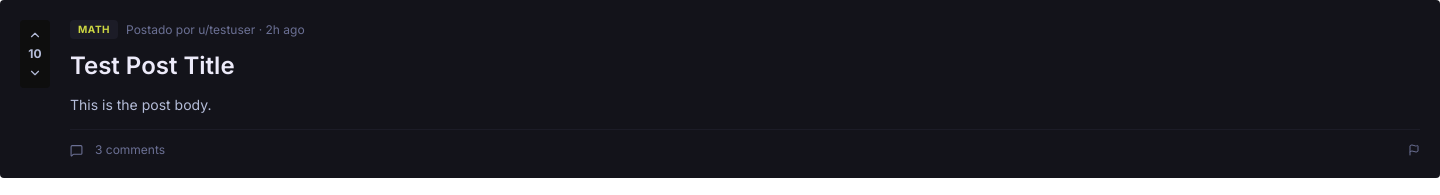
Scenario: PostDetail › cancels upvote if upvote is clicked again
What coordinates should you click on to do the following:
click the button named "upvote"
I would click on:
 (35, 35)
Its box is [24,24,46,46].
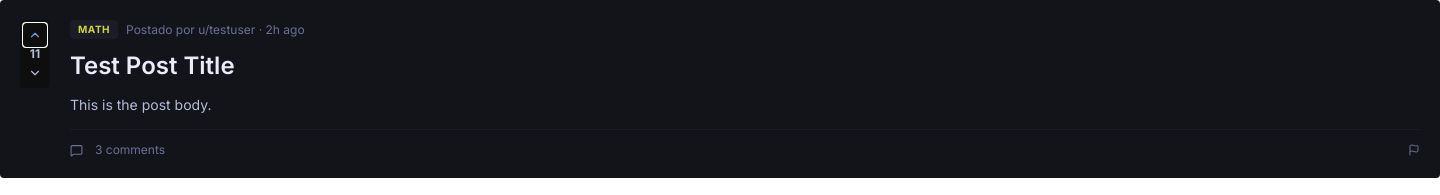
What coordinates should you click on to do the following:
click the button named "upvote"
I would click on:
 (35, 35)
Its box is [24,24,46,46].
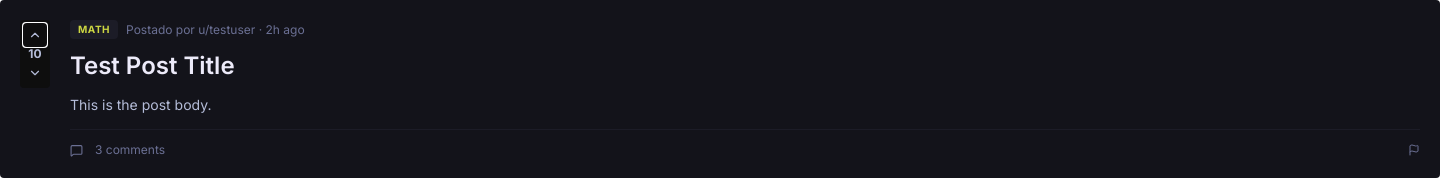
Check: the text "10" is shown, box [28,46,42,61]
